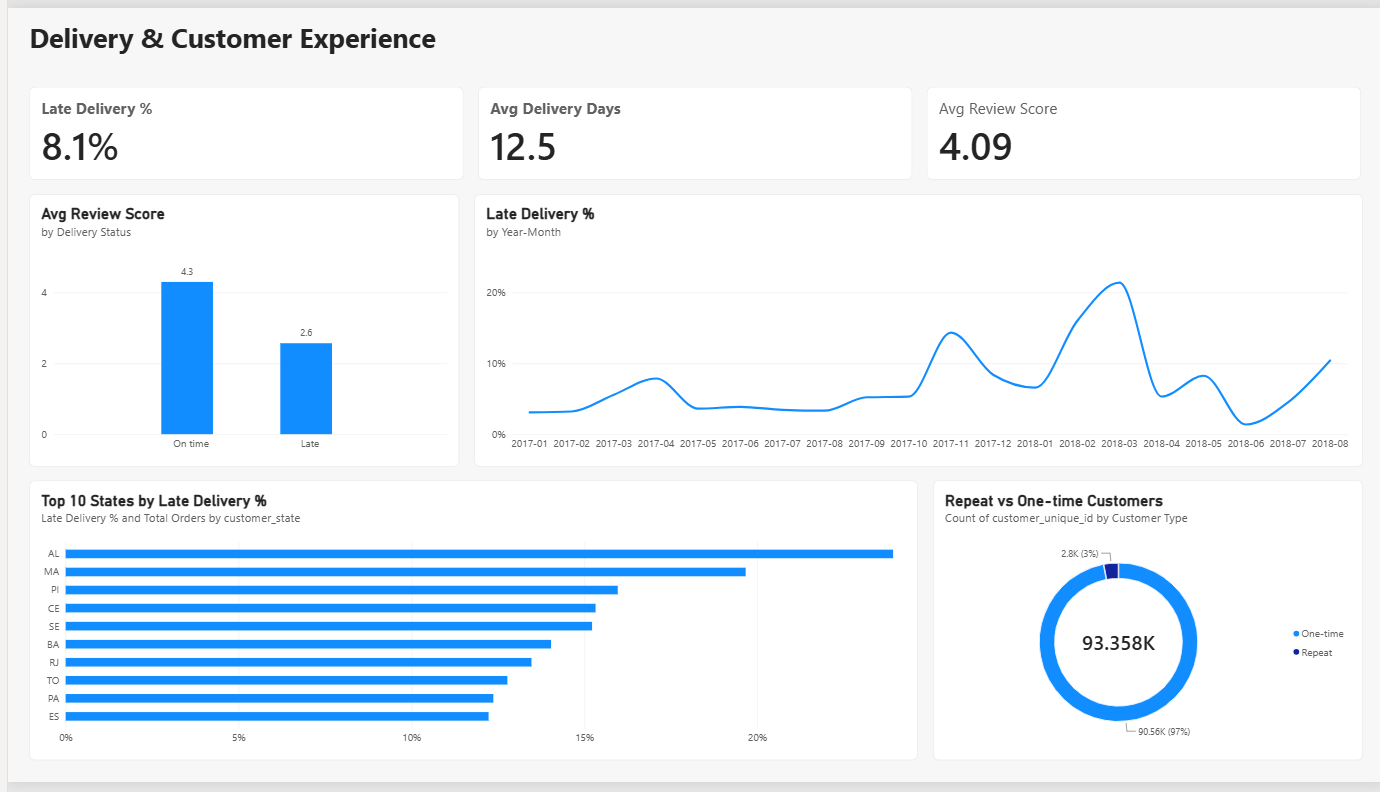

The page's visual inventory and layout, read from the dashboard file:
{"tool":"powerbi","page":{"name":"Delivery & Customers","canvas":[1920,1080],"ordinal":1},"visuals":[{"type":"textbox","box":[30,15,1000,70],"z":0},{"type":"cardVisual","fields":{"Data":["Orders.Late Delivery %"]},"box":[30,110,606,130],"z":1},{"type":"cardVisual","fields":{"Data":["Orders.Avg Delivery Days"]},"box":[656,110,606,130],"z":2},{"type":"cardVisual","fields":{"Data":["Orders.Avg Review Score"]},"box":[1282,110,606,130],"z":3},{"type":"clusteredColumnChart","fields":{"Category":["Orders.Delivery Status"],"Y":["Orders.Avg Review Score"]},"box":[30,260,600,380],"z":4},{"type":"lineChart","fields":{"Category":["Dim_Date.Year-Month"],"Y":["Orders.Late Delivery %"]},"box":[650,260,1240,380],"z":5},{"type":"clusteredBarChart","title":"Top 10 States by Late Delivery %","fields":{"Category":["Orders.customer_state"],"Y":["Orders.Late Delivery %"]},"box":[30,660,1240,390],"z":6},{"type":"donutChart","title":"Repeat vs One-time Customers","fields":{"Category":["Customers.Customer Type"],"Y":["Count(Customers.customer_unique_id)"]},"box":[1290,660,600,390],"z":7}]}

Visuals, with their boxes in screenshot pixels (x1, y1, x2, y2), scaled from the page's 1920x1080 canvas onto the 1380x792 screenshot:
textbox: 22,11,740,62
cardVisual - Orders.Late Delivery %: 22,81,457,176
cardVisual - Orders.Avg Delivery Days: 472,81,907,176
cardVisual - Orders.Avg Review Score: 921,81,1357,176
clusteredColumnChart - Orders.Delivery Status x Orders.Avg Review Score: 22,191,453,469
lineChart - Dim_Date.Year-Month x Orders.Late Delivery %: 467,191,1358,469
"Top 10 States by Late Delivery %" clusteredBarChart: 22,484,913,770
"Repeat vs One-time Customers" donutChart: 927,484,1358,770
